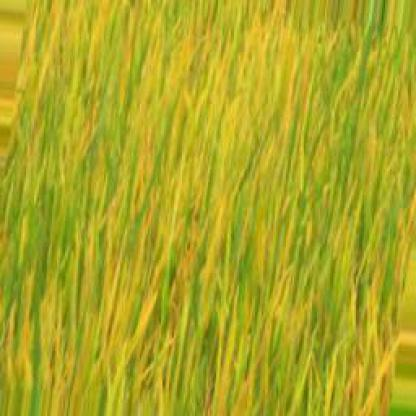Tungro: (1, 2, 414, 410)
